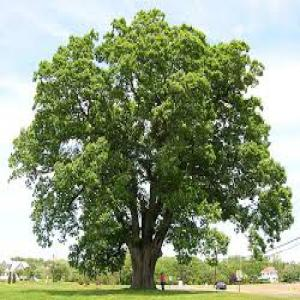Tree: (6, 6, 295, 291)
